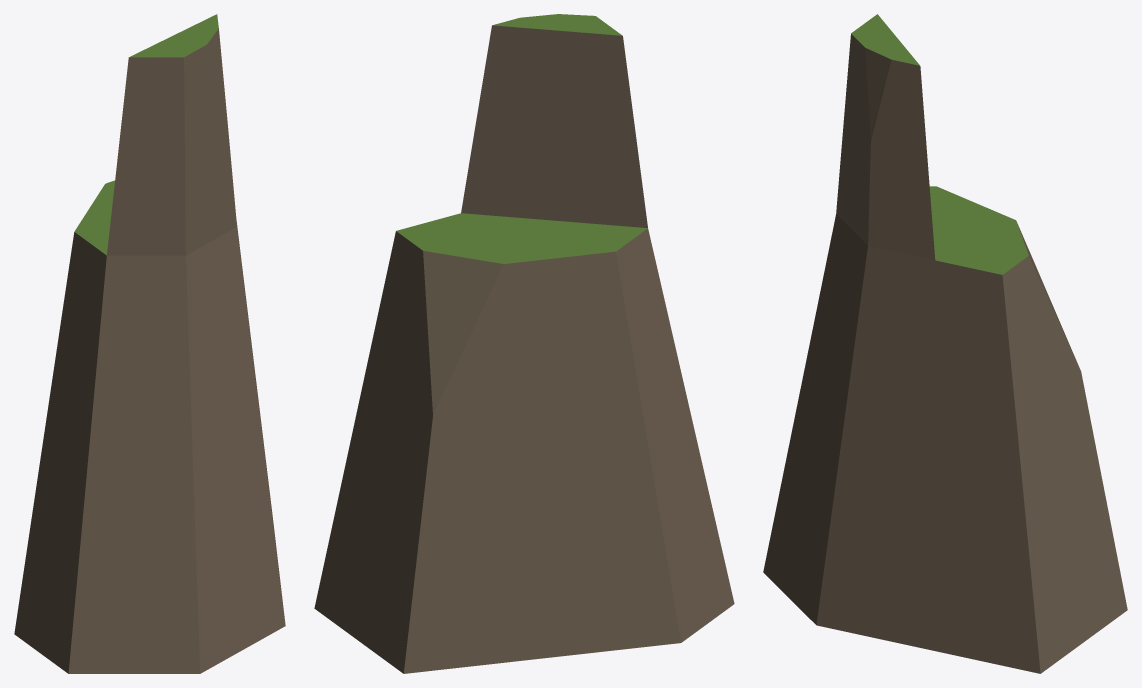
Rendered from kenney_rock_tall_d.glb.
3 renders of one model, left to right at view 1: azimuth 30°, elevation 25°; view 2: azimuth 150°, elevation 25°; view 3: azimuth 270°, elevation 25°, orthographic. The views are drawn at different scales.
Parts seen in each view (by area): view 1: stone, plaster; view 2: stone, plaster; view 3: stone, plaster.
Boxes of the visible parts, box(x1,y1,x2,y2) form: stone: box(14, 28, 285, 673); plaster: box(74, 14, 218, 255); stone: box(314, 25, 734, 673); plaster: box(396, 14, 647, 263); stone: box(763, 34, 1127, 673); plaster: box(851, 14, 1028, 274).
Size of the model in its own units: 0.4428 by 0.7721 by 0.4615.
